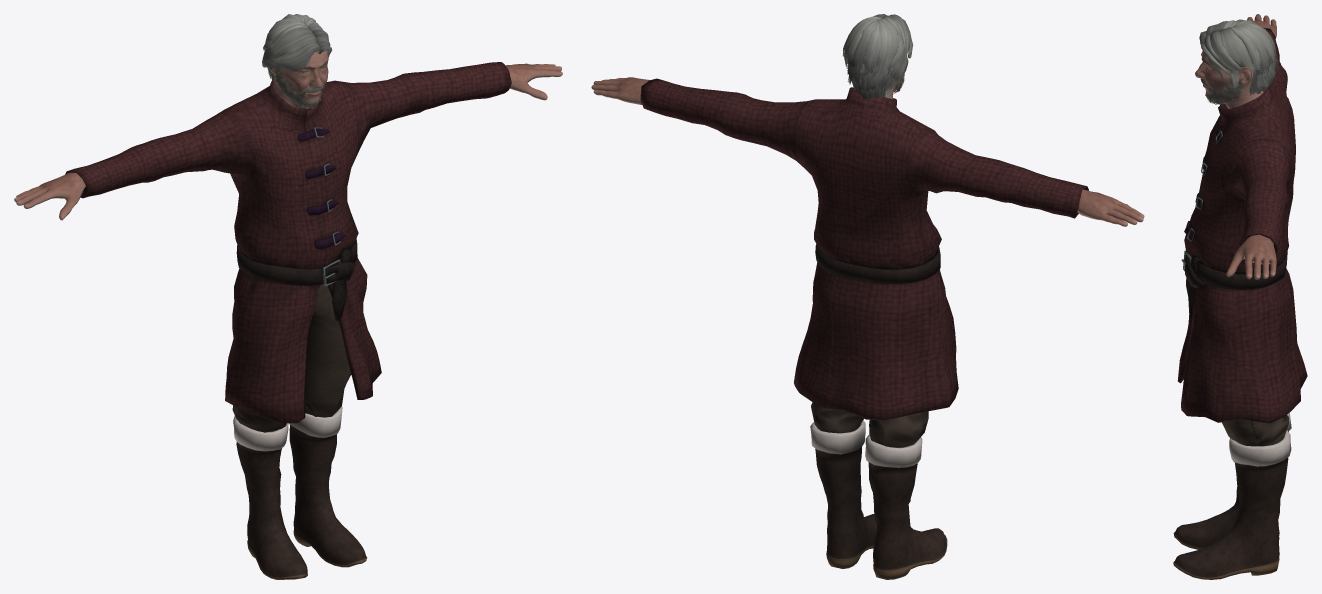
File: Wizard1.obj
3 renders of one model, left to right at view 1: azimuth 30°, elevation 25°; view 2: azimuth 150°, elevation 25°; view 3: azimuth 270°, elevation 25°, orthographic.
Visible parts, largest first — view 1: Tops, Shoes, Bottoms, Body, Hair; view 2: Tops, Shoes, Hair, Body, Bottoms; view 3: Tops, Shoes, Hair, Body, Bottoms, Beards.
Boxes of the visible parts, x1,y1,x2,y2 form: Tops: (65, 62, 511, 423); Shoes: (233, 406, 367, 579); Bottoms: (232, 284, 351, 432); Body: (14, 52, 562, 220); Hair: (262, 14, 332, 84); Tops: (640, 78, 1088, 420); Shoes: (810, 420, 947, 579); Hair: (842, 14, 912, 99); Body: (591, 33, 1144, 226); Bottoms: (811, 402, 928, 447); Tops: (1177, 28, 1307, 423); Shoes: (1173, 412, 1291, 579); Hair: (1199, 19, 1278, 95); Body: (1195, 14, 1276, 279); Bottoms: (1222, 415, 1288, 446); Beards: (1205, 72, 1243, 104).
Size of the model in its own units: 193 by 182 by 41.32.
1 material, 1 textured.
